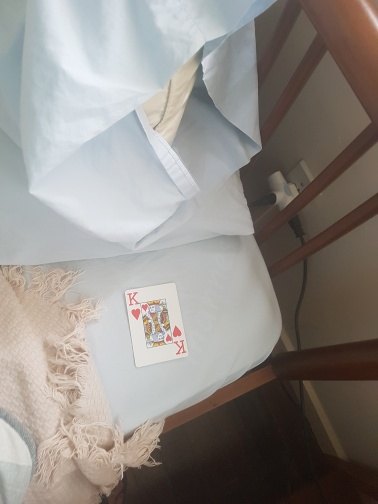king: (123, 282, 189, 366)
